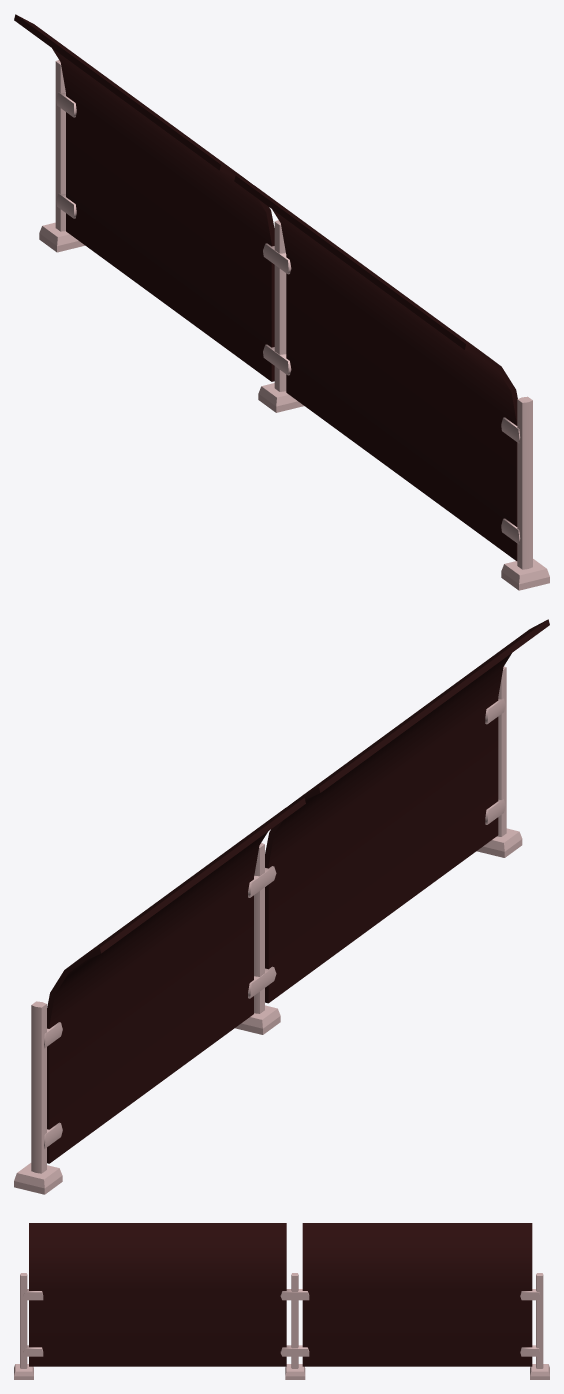
Rendered from Module_Ss_asset_bar3.FBX.
The picture shows the model from 3 angles, top to bottom: view 1: azimuth 30°, elevation 25°; view 2: azimuth 150°, elevation 25°; view 3: azimuth 270°, elevation 25°; orthographic projection. The views are drawn at different scales.
Parts seen in each view (by area): view 1: Module_Ss_asset_bar3; view 2: Module_Ss_asset_bar3; view 3: Module_Ss_asset_bar3.
Part boxes in pixels (x1,y1,x2,y2): Module_Ss_asset_bar3: (14,14,549,590); Module_Ss_asset_bar3: (14,619,549,1194); Module_Ss_asset_bar3: (14,1223,549,1379).
Bounding box in the file's own units: 6.39 × 20.93 × 73.85.
